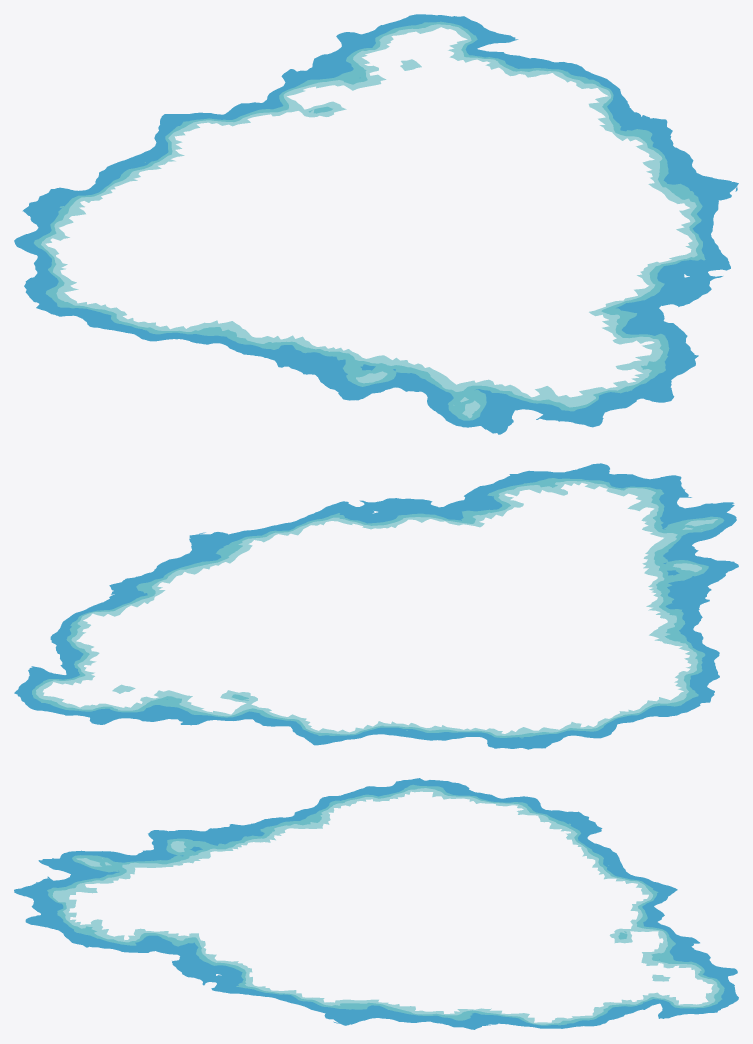
The model's file is Isl-hilly2-Water.fbx.
The picture shows the model from 3 angles, top to bottom: view 1: azimuth 30°, elevation 25°; view 2: azimuth 150°, elevation 25°; view 3: azimuth 270°, elevation 25°; orthographic projection. The views are drawn at different scales.
Parts seen in each view (by area): view 1: Isl-hilly2-Water; view 2: Isl-hilly2-Water; view 3: Isl-hilly2-Water.
Boxes of the visible parts, x1=… form: Isl-hilly2-Water: x1=14, y1=14, x2=738, y2=434; Isl-hilly2-Water: x1=14, y1=463, x2=738, y2=749; Isl-hilly2-Water: x1=14, y1=778, x2=738, y2=1029.
Size of the model in its own units: 110 by 0 by 134.
